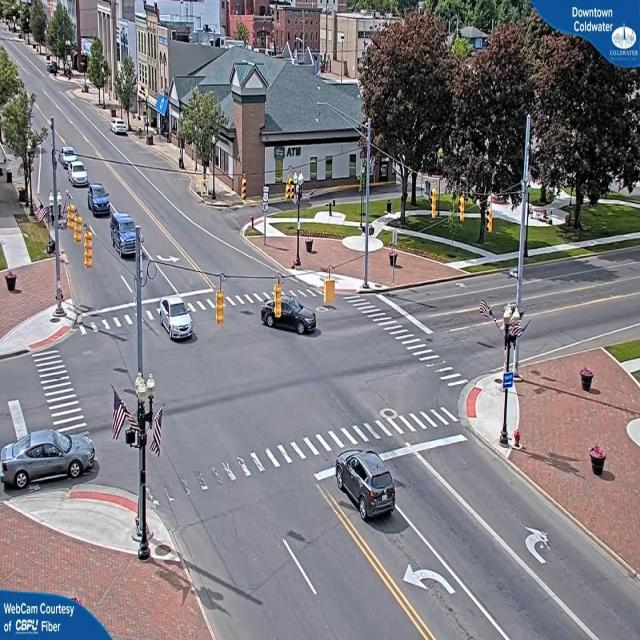car: (4, 422, 99, 489), (337, 451, 400, 523), (262, 297, 318, 335), (152, 298, 195, 340), (110, 214, 142, 258), (63, 154, 87, 190), (87, 183, 113, 216), (111, 120, 129, 136)
